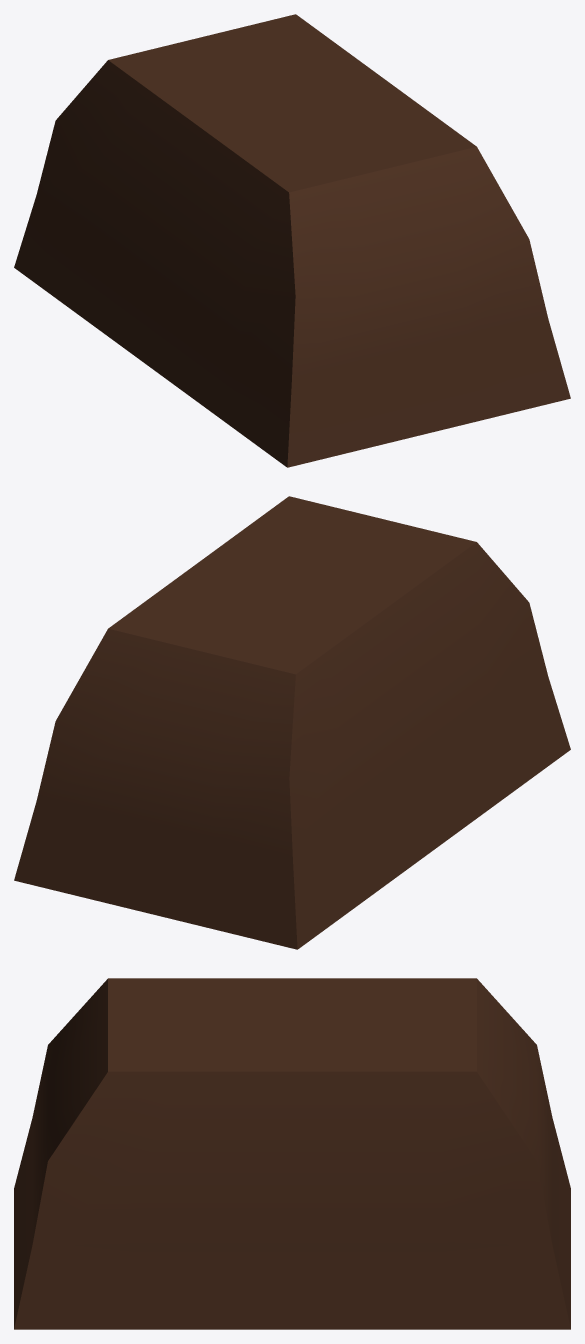
The model's file is Schokolade 1.fbx.
3 renders of one model, top to bottom at view 1: azimuth 30°, elevation 25°; view 2: azimuth 150°, elevation 25°; view 3: azimuth 270°, elevation 25°, orthographic.
Visible parts, largest first — view 1: Schokolade 1; view 2: Schokolade 1; view 3: Schokolade 1.
Part boxes in pixels (x1,y1,x2,y2): Schokolade 1: (14, 14, 570, 467); Schokolade 1: (14, 496, 570, 949); Schokolade 1: (14, 978, 570, 1329).
Size of the model in its own units: 80.05 by 61.98 by 134.
